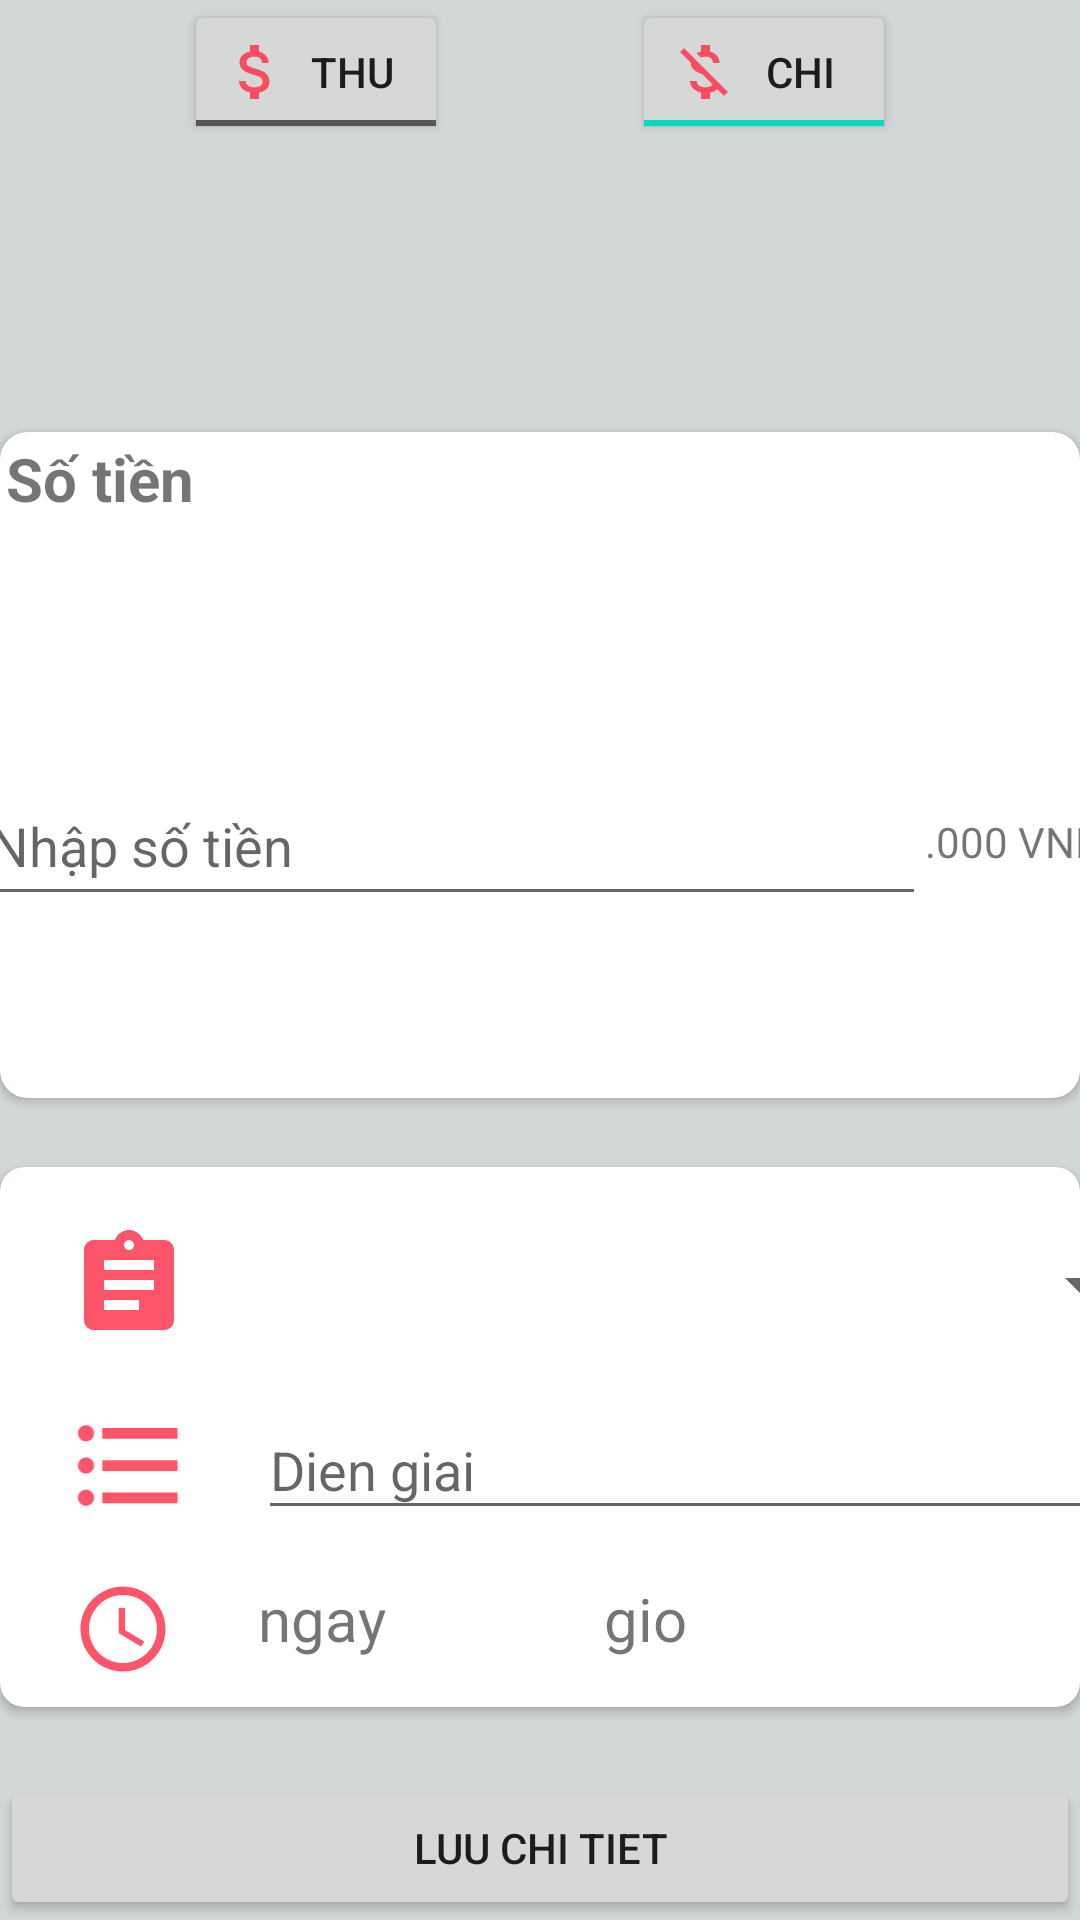

Where icons sit on this 1080x1920 app screen, as (x1=x1, y1=y1, x2=x2, y2=y2):
catagories: (x1=84, y1=1230, x2=174, y2=1330)
date time: (x1=80, y1=1586, x2=166, y2=1672)
detail: (x1=77, y1=1425, x2=178, y2=1506)
